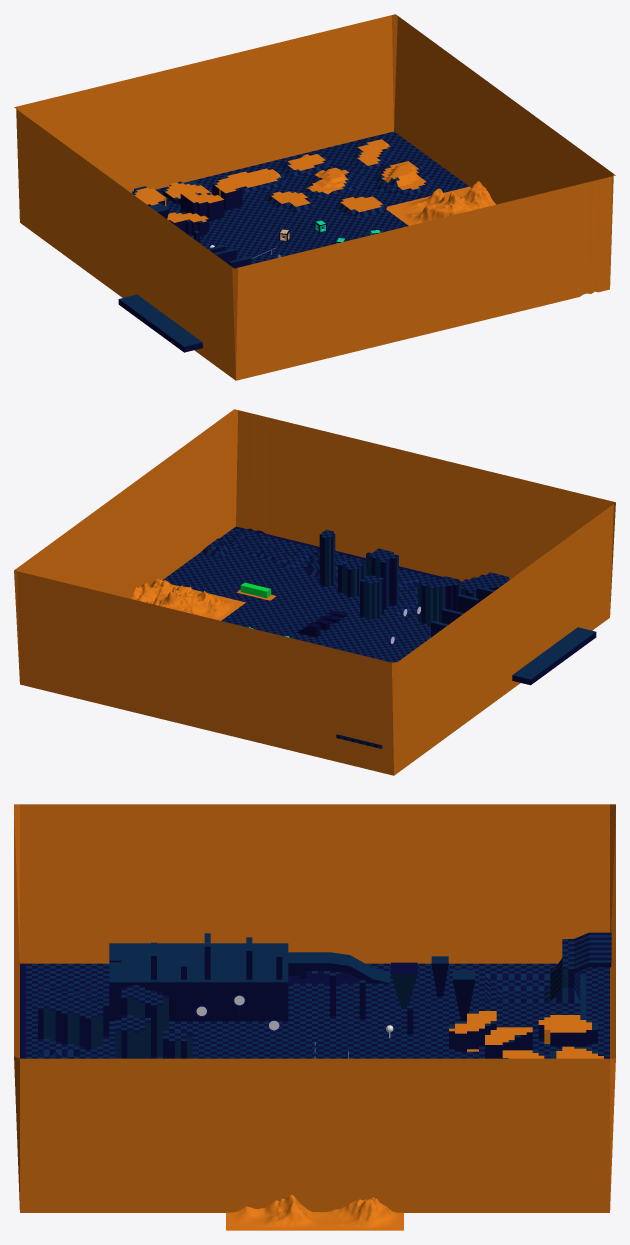
File: playground_map_v2.fbx
3 renders of one model, top to bottom at view 1: azimuth 30°, elevation 25°; view 2: azimuth 150°, elevation 25°; view 3: azimuth 270°, elevation 25°, orthographic. The views are drawn at different scales.
Parts seen in each view (by area): view 1: Plane; view 2: Plane; view 3: Plane.
Part boxes in pixels (x1=…): Plane: x1=14, y1=14, x2=615, y2=380; Plane: x1=14, y1=409, x2=615, y2=775; Plane: x1=14, y1=804, x2=615, y2=1230.
Bounding box in the file's own units: 88040 × 25590 × 80000.
